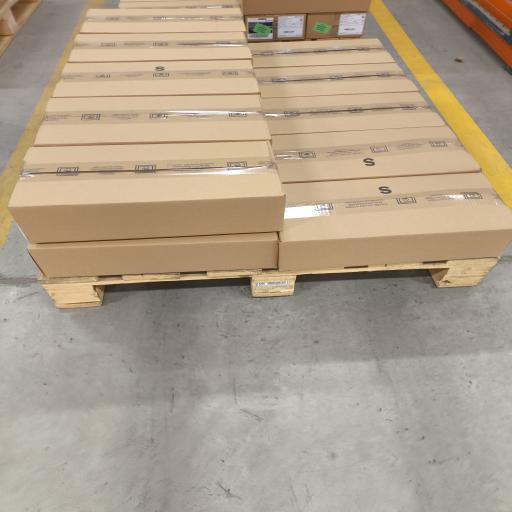pallet: (39, 258, 499, 308)
